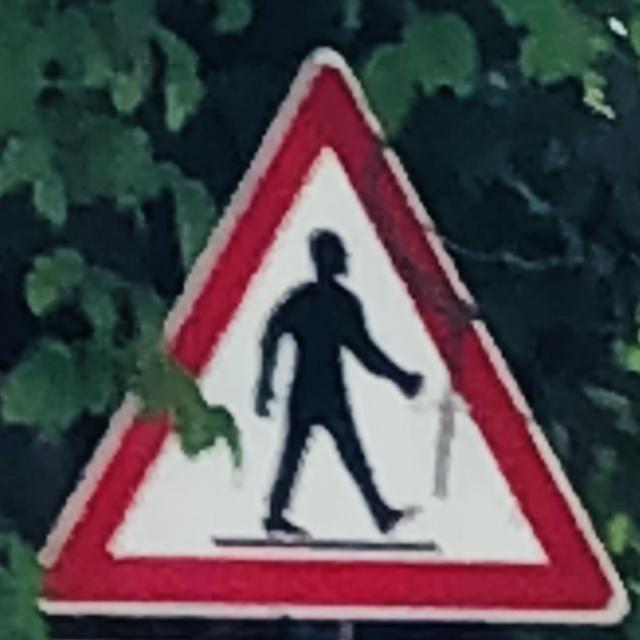pedestrian crossing: (38, 55, 620, 618)
